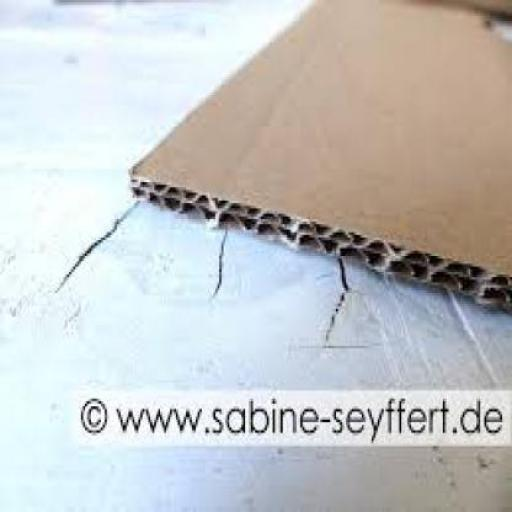cardboard: (129, 0, 510, 309)
